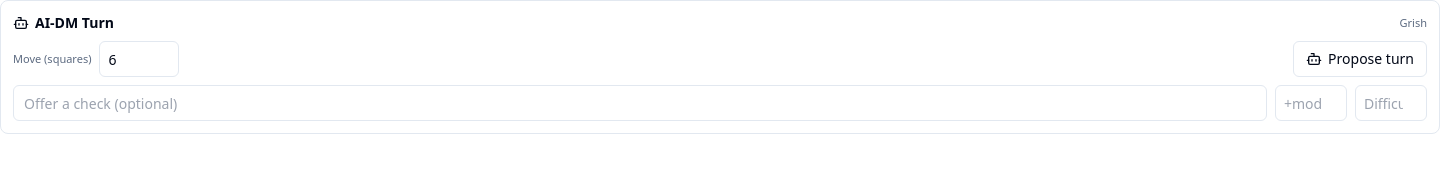
DmTurnPanel › surfaces a flow-level failure instead of an empty panel
Click the button "Propose turn" at (1360, 59), box [1293,41,1427,77]
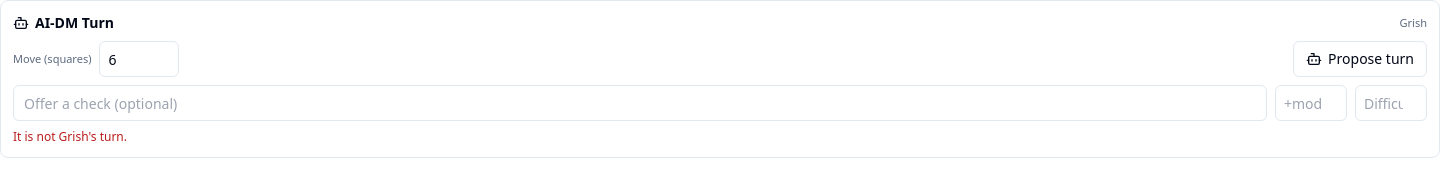
expect the text "It is not Grish's turn." is shown: met, box [13,128,127,145]
